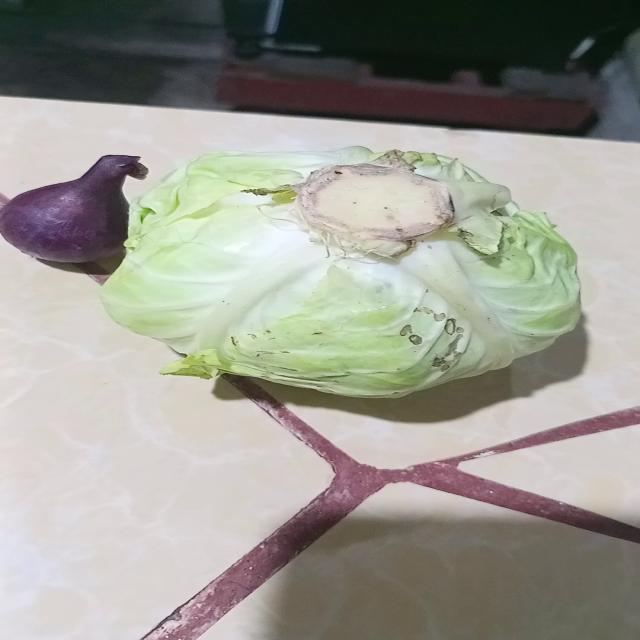cabbage: (98, 146, 582, 401)
onion: (0, 154, 149, 280)
